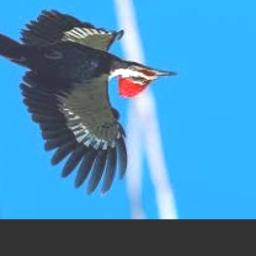Woodpecker: (0, 10, 176, 197)
